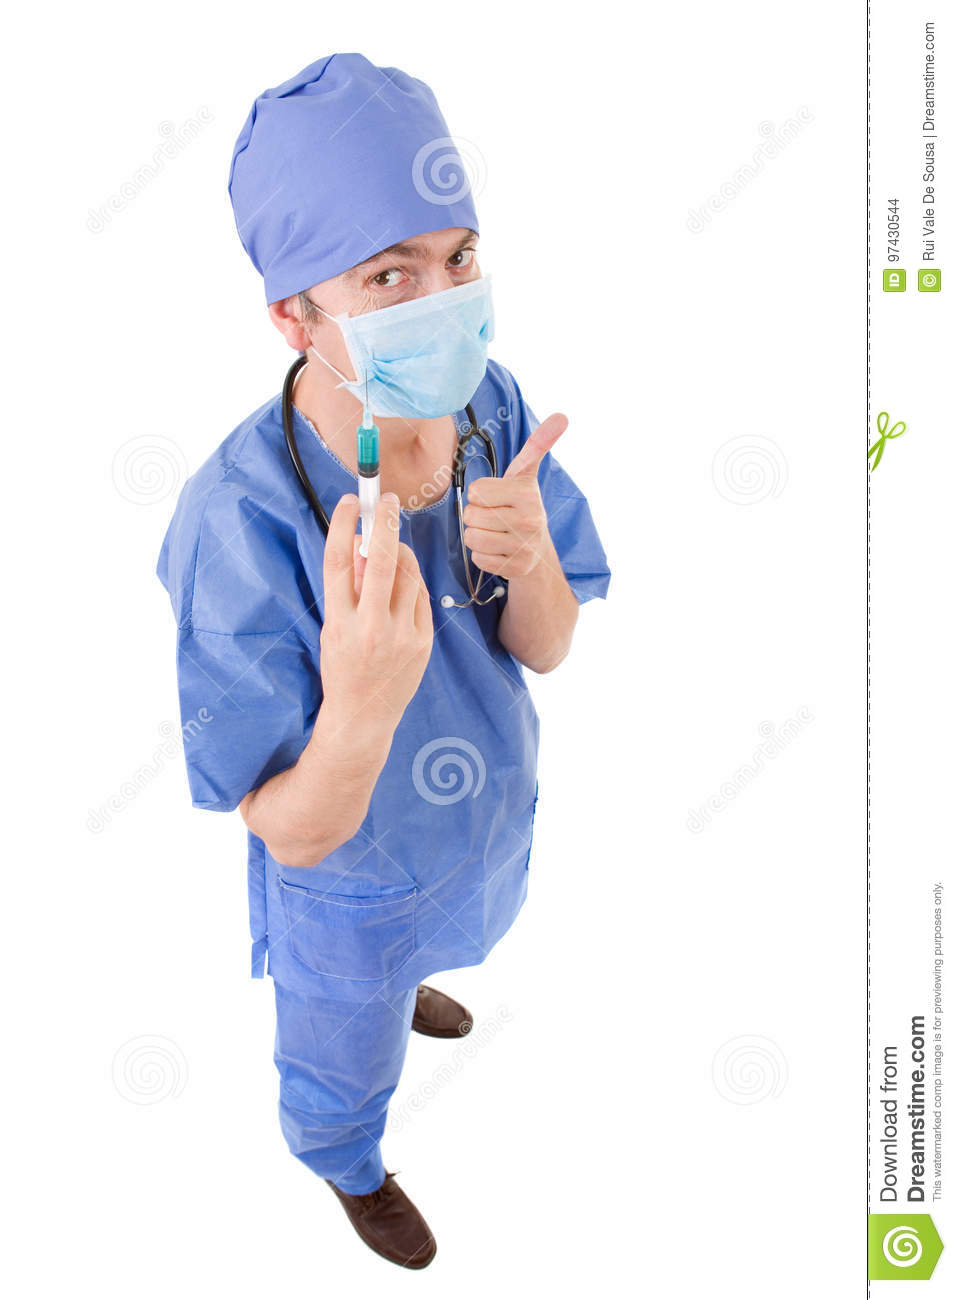mask: (320, 285, 534, 419)
